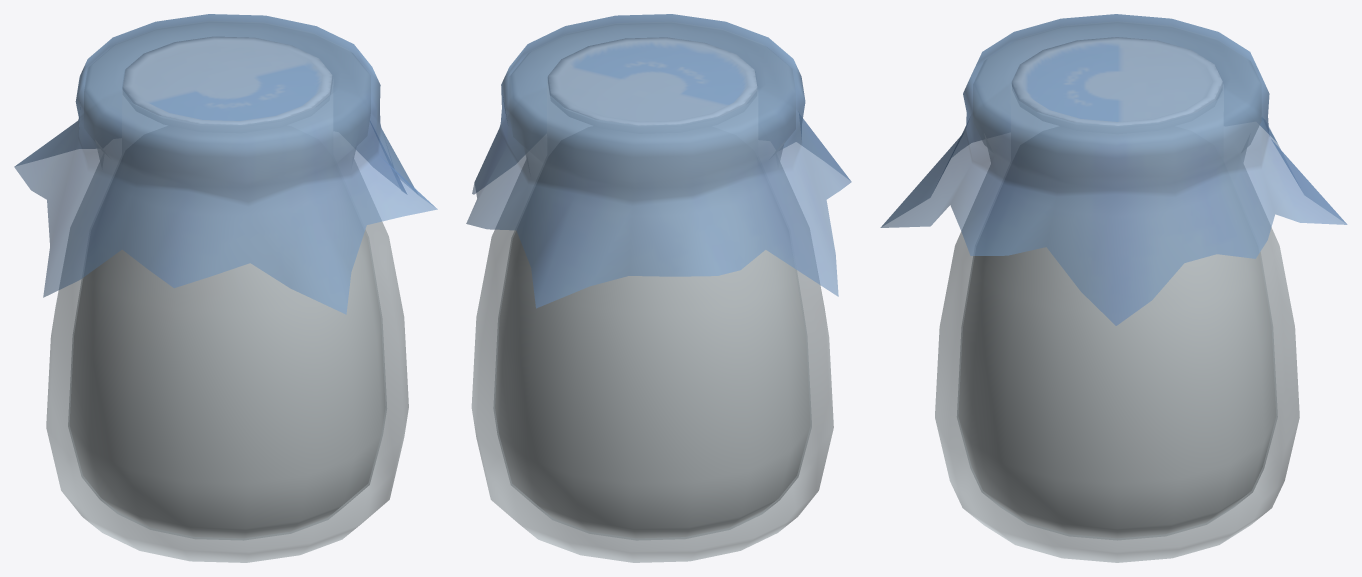
The model's file is pi_yogurt01.gltf.
The picture shows the model from 3 angles, left to right: view 1: azimuth 30°, elevation 25°; view 2: azimuth 150°, elevation 25°; view 3: azimuth 270°, elevation 25°; orthographic projection.
Visible parts, largest first — view 1: pi_yogurt01_outside01_mesh_shape:pi_yogurt01_glass, pi_yogurt01_lid02_mesh_shape:pi_yogurt01_glass, pi_yogurt01_inside01_mesh_shape:pi_yogurt01_glass, pi_yogurt01_body_mesh_shape:pi_yogurt01_body, pi_yogurt01_lid01_mesh_shape:pi_yogurt01_lid; view 2: pi_yogurt01_outside01_mesh_shape:pi_yogurt01_glass, pi_yogurt01_lid02_mesh_shape:pi_yogurt01_glass, pi_yogurt01_inside01_mesh_shape:pi_yogurt01_glass, pi_yogurt01_body_mesh_shape:pi_yogurt01_body, pi_yogurt01_lid01_mesh_shape:pi_yogurt01_lid; view 3: pi_yogurt01_outside01_mesh_shape:pi_yogurt01_glass, pi_yogurt01_lid02_mesh_shape:pi_yogurt01_glass, pi_yogurt01_inside01_mesh_shape:pi_yogurt01_glass, pi_yogurt01_body_mesh_shape:pi_yogurt01_body, pi_yogurt01_lid01_mesh_shape:pi_yogurt01_lid.
Part boxes in pixels (x1=…): pi_yogurt01_outside01_mesh_shape:pi_yogurt01_glass: x1=46, y1=21, x2=408, y2=562; pi_yogurt01_lid02_mesh_shape:pi_yogurt01_glass: x1=14, y1=14, x2=437, y2=314; pi_yogurt01_inside01_mesh_shape:pi_yogurt01_glass: x1=68, y1=72, x2=386, y2=540; pi_yogurt01_body_mesh_shape:pi_yogurt01_body: x1=70, y1=232, x2=385, y2=537; pi_yogurt01_lid01_mesh_shape:pi_yogurt01_lid: x1=123, y1=37, x2=331, y2=124; pi_yogurt01_outside01_mesh_shape:pi_yogurt01_glass: x1=471, y1=22, x2=833, y2=562; pi_yogurt01_lid02_mesh_shape:pi_yogurt01_glass: x1=466, y1=14, x2=851, y2=308; pi_yogurt01_inside01_mesh_shape:pi_yogurt01_glass: x1=493, y1=72, x2=811, y2=540; pi_yogurt01_body_mesh_shape:pi_yogurt01_body: x1=495, y1=231, x2=810, y2=537; pi_yogurt01_lid01_mesh_shape:pi_yogurt01_lid: x1=548, y1=37, x2=756, y2=125; pi_yogurt01_outside01_mesh_shape:pi_yogurt01_glass: x1=935, y1=21, x2=1299, y2=562; pi_yogurt01_lid02_mesh_shape:pi_yogurt01_glass: x1=880, y1=14, x2=1347, y2=325; pi_yogurt01_inside01_mesh_shape:pi_yogurt01_glass: x1=957, y1=83, x2=1277, y2=540; pi_yogurt01_body_mesh_shape:pi_yogurt01_body: x1=958, y1=247, x2=1275, y2=537; pi_yogurt01_lid01_mesh_shape:pi_yogurt01_lid: x1=1012, y1=37, x2=1222, y2=125.
Size of the model in its own units: 0.0768 by 0.086 by 0.0855.
3 materials, 3 textured.
